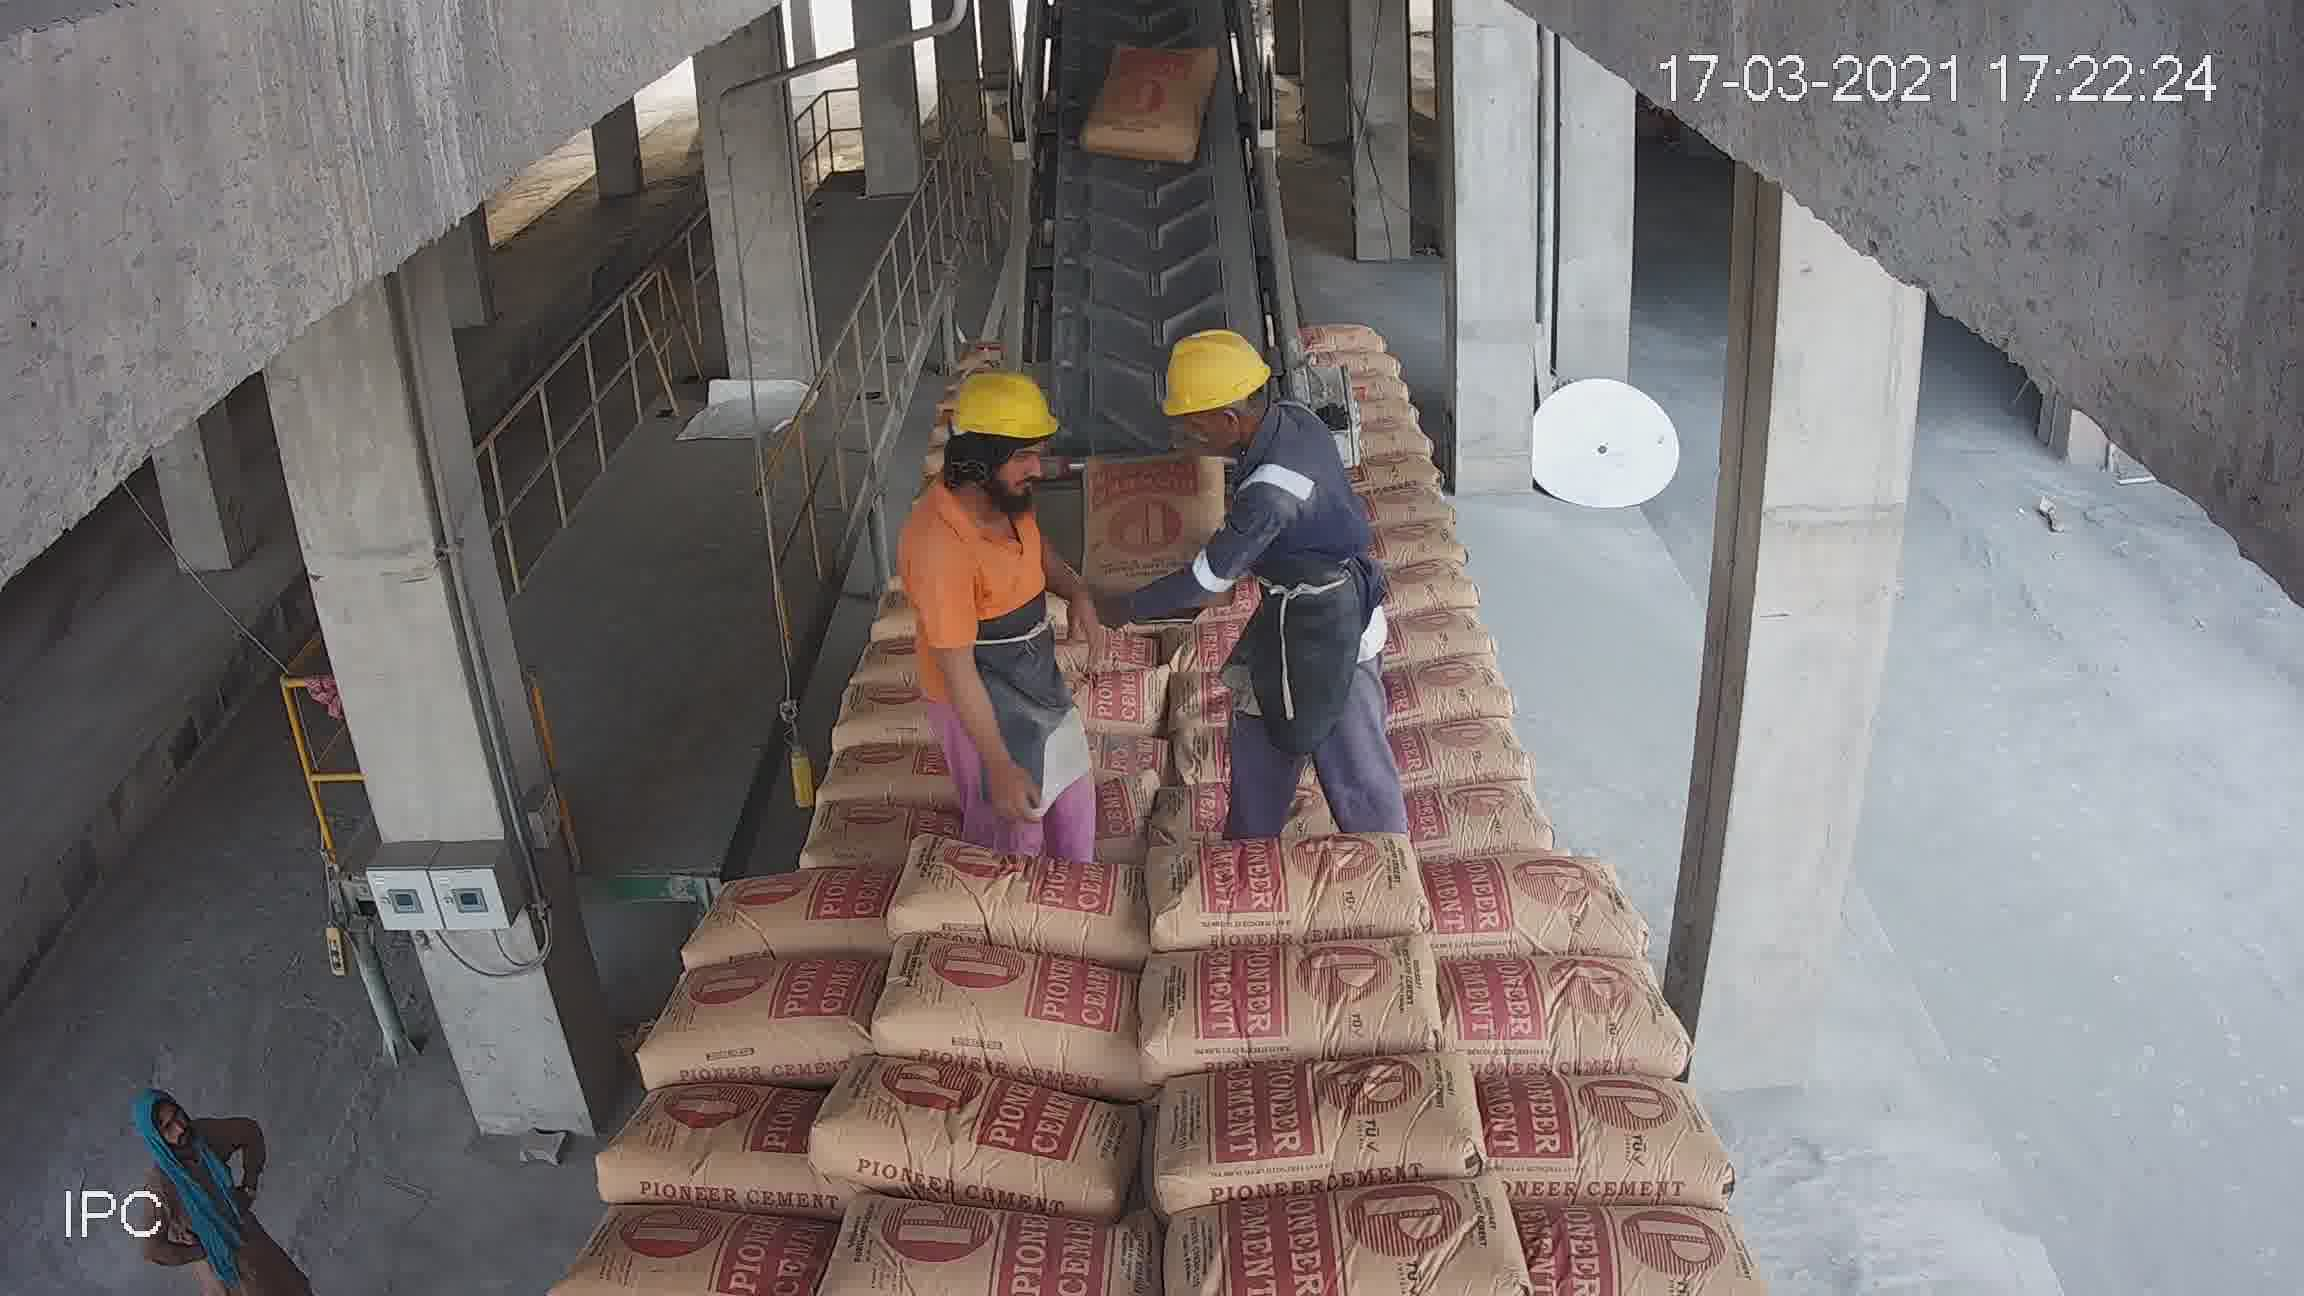bag_h: (1131, 1166, 1513, 1283), (1158, 1054, 1484, 1182), (793, 1074, 1139, 1195), (1131, 929, 1478, 1049), (631, 945, 880, 1081), (1423, 934, 1674, 1067), (1160, 809, 1419, 930), (858, 961, 1131, 1074), (1133, 725, 1402, 840), (1491, 1065, 1720, 1195), (1380, 851, 1643, 949), (603, 1087, 812, 1206), (878, 859, 1158, 945), (815, 1214, 1149, 1285), (1503, 1201, 1755, 1294), (680, 853, 889, 964), (1147, 665, 1393, 758), (535, 1214, 823, 1290), (902, 688, 1161, 766), (1415, 761, 1622, 850), (718, 783, 902, 881), (736, 698, 921, 788), (902, 777, 1139, 837), (1381, 688, 1571, 755), (1022, 521, 1173, 587), (1337, 563, 1503, 616), (1370, 600, 1518, 650), (1321, 527, 1478, 574), (1324, 408, 1427, 476), (1315, 491, 1465, 536), (1021, 623, 1176, 668), (1014, 578, 1196, 614), (1380, 649, 1519, 695), (1329, 446, 1448, 500)
belt: (1017, 27, 1287, 465)
